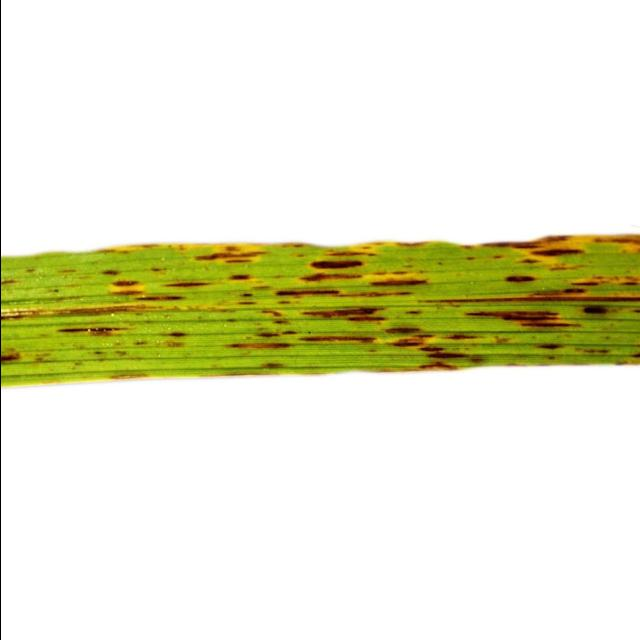Narrow brown: (0, 196, 640, 426)
